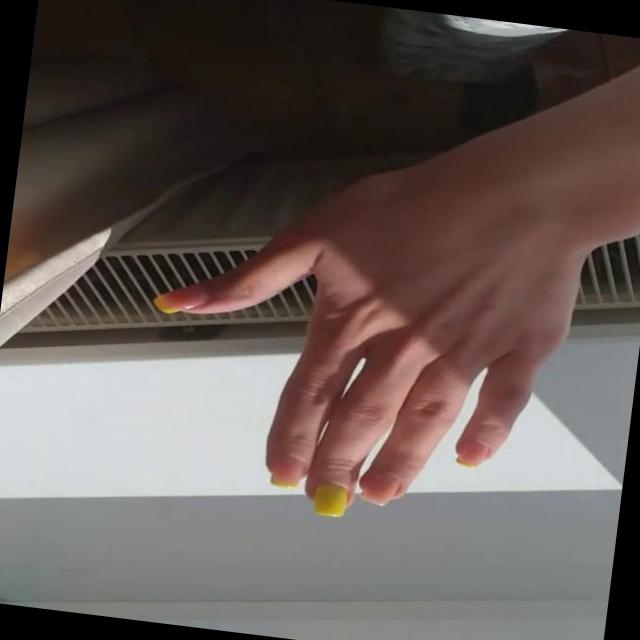Nail: (152, 279, 212, 313), (358, 473, 398, 506), (313, 482, 347, 515), (269, 454, 301, 487), (454, 437, 487, 468)
